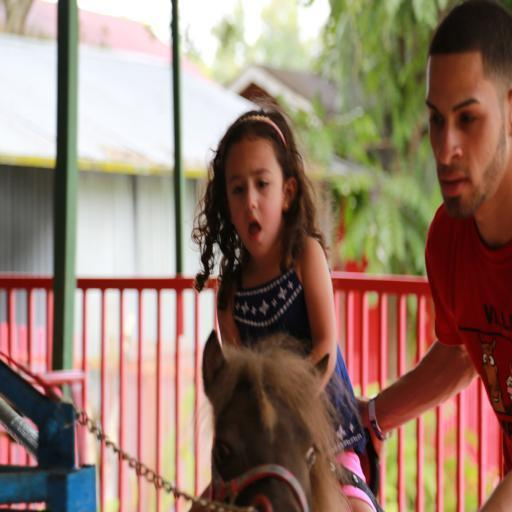horse: (192, 327, 352, 512)
